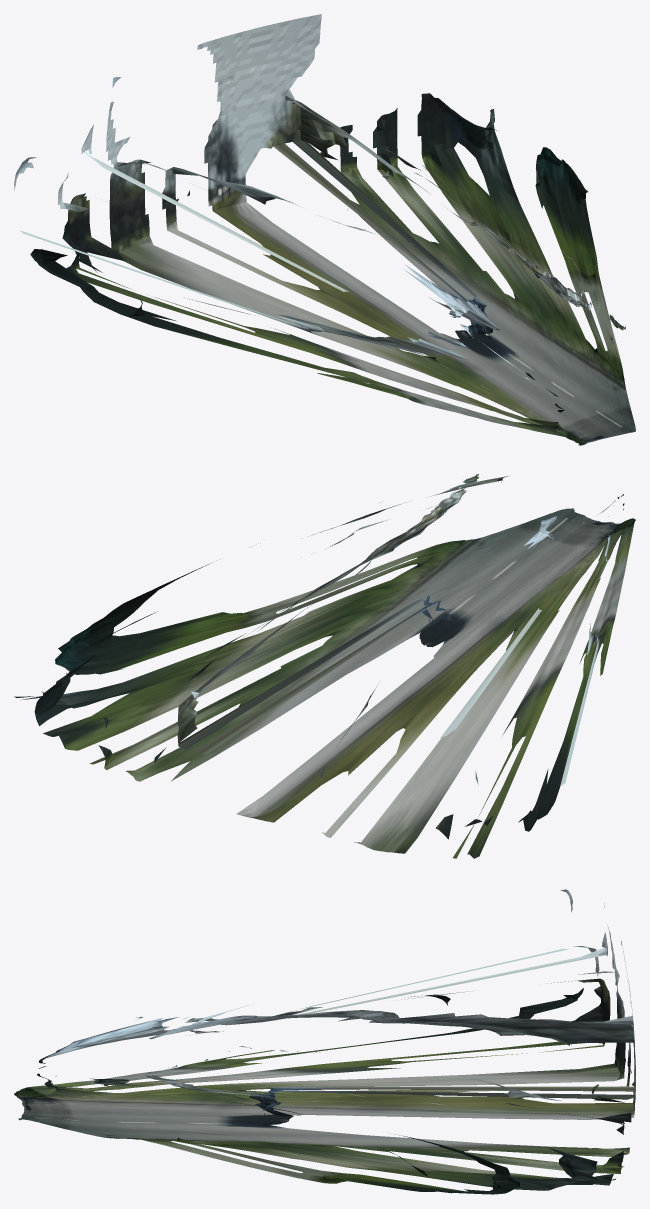
The picture shows the model from 3 angles, top to bottom: view 1: azimuth 30°, elevation 25°; view 2: azimuth 150°, elevation 25°; view 3: azimuth 270°, elevation 25°; orthographic projection. The views are drawn at different scales.
Parts seen in each view (by area): view 1: defaultobject; view 2: defaultobject; view 3: defaultobject.
Boxes of the visible parts, box(x1,y1,x2,y2) form: defaultobject: box(14, 14, 635, 445); defaultobject: box(14, 474, 635, 858); defaultobject: box(14, 889, 635, 1194).
Bounding box in the file's own units: 37.48 × 13.28 × 45.16.
1 material, 1 textured.
